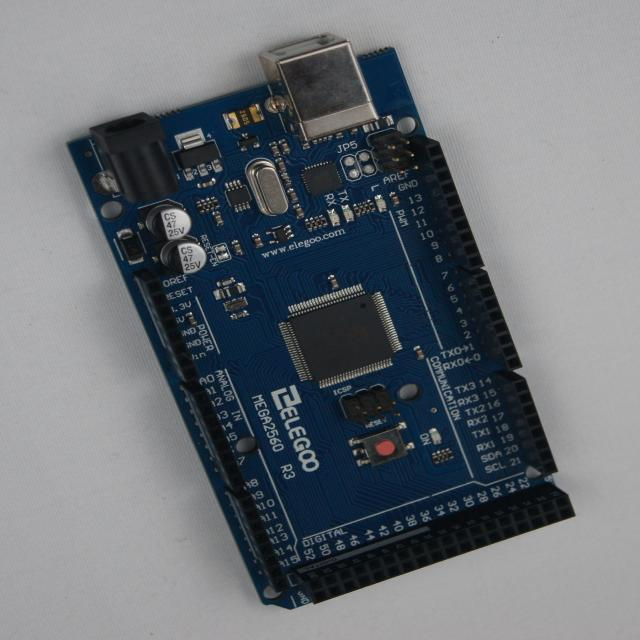Arduino Mega 2560 -Blue-: (69, 35, 575, 609)
